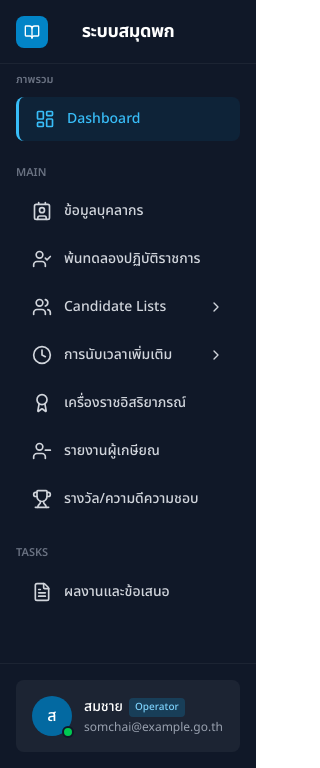
it: AppSidebar › exposes submenu expand state via aria-expanded and aria-controls
What coordinates should you click on to do the following:
click the button "Candidate Lists"
I would click on:
 (128, 307)
Its box is [16, 285, 240, 329].
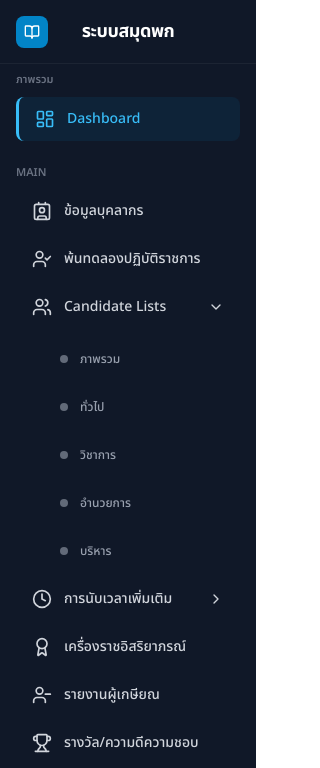
Result: the button "Candidate Lists" is expanded at [16, 285, 240, 329]
